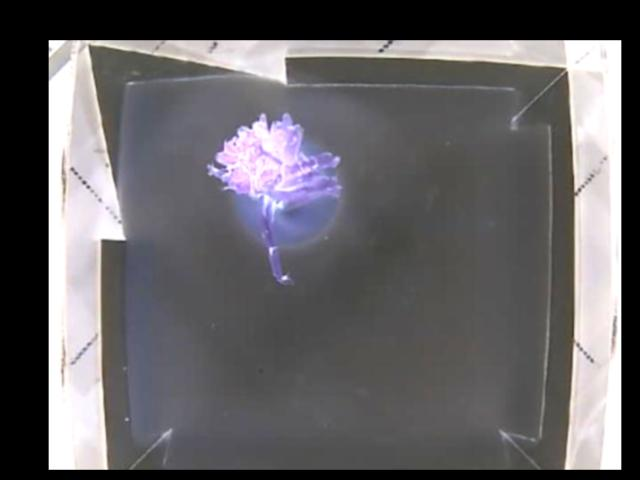Mooli: (207, 113, 342, 281)
